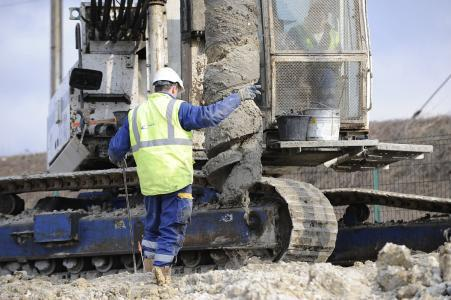helmet: (152, 67, 186, 102)
